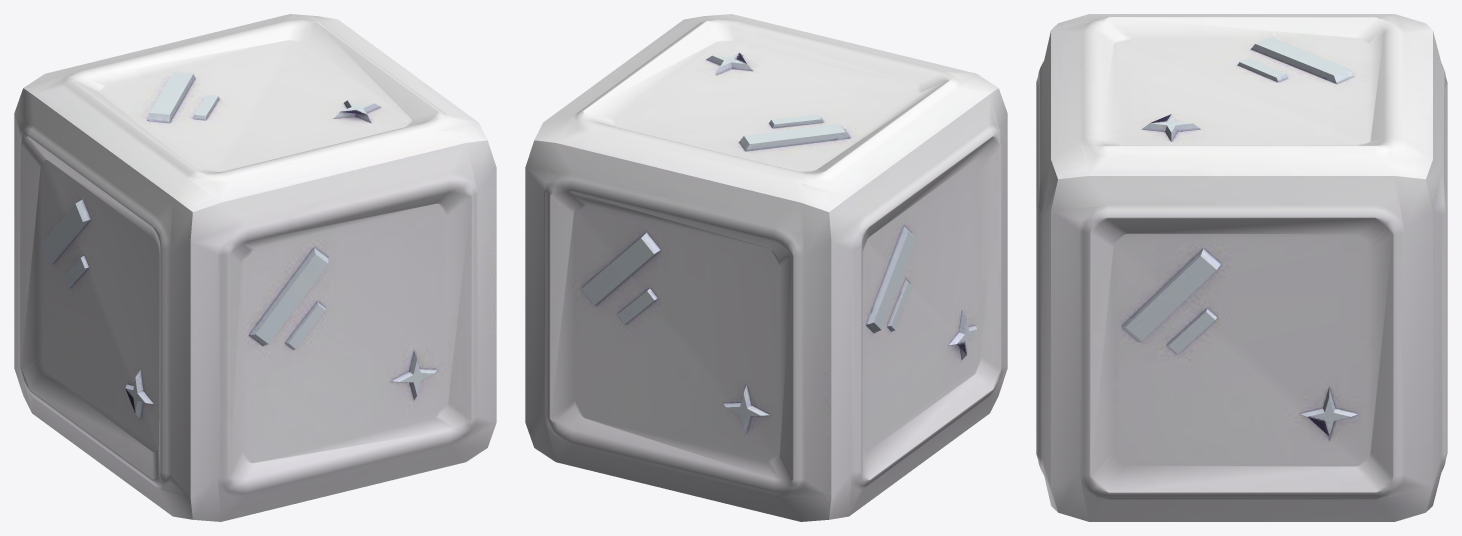
File: pl_buz.glb
3 views of the same model, side by side, from view 1: azimuth 30°, elevation 25°; view 2: azimuth 150°, elevation 25°; view 3: azimuth 270°, elevation 25° (orthographic). The views are drawn at different scales.
Visible parts, largest first — view 1: pl_buz; view 2: pl_buz; view 3: pl_buz.
Boxes of the visible parts, left/top/right/bottom form: pl_buz: left=14, top=14, right=496, bottom=521; pl_buz: left=525, top=14, right=1007, bottom=521; pl_buz: left=1036, top=14, right=1447, bottom=521.
Bounding box in the file's own units: 1.54 × 1.54 × 1.54.
1 material, 1 textured.
